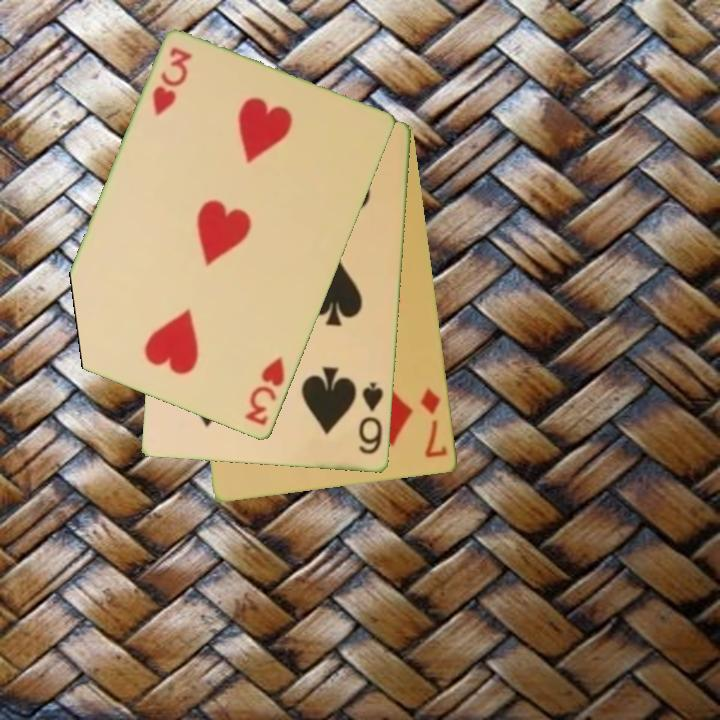3h: (148, 44, 195, 120), (242, 353, 288, 429)
6s: (355, 379, 386, 458)
7d: (418, 384, 451, 462)
